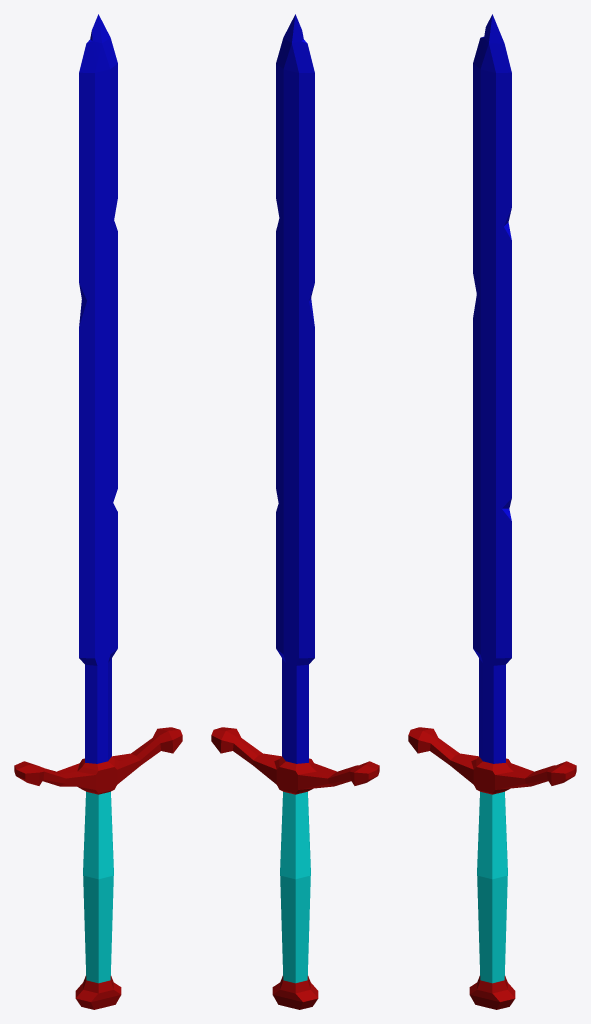
Rendered from Greatsword_Uncommon_Claymore.fbx.
The picture shows the model from 3 angles, left to right: view 1: azimuth 30°, elevation 25°; view 2: azimuth 150°, elevation 25°; view 3: azimuth 330°, elevation 25°; orthographic projection.
Parts seen in each view (by area): view 1: SM_Wep_Greatsword_Straight_01; view 2: SM_Wep_Greatsword_Straight_01; view 3: SM_Wep_Greatsword_Straight_01.
Boxes of the visible parts, x1,y1,x2,y2 form: SM_Wep_Greatsword_Straight_01: (14,14,182,1009); SM_Wep_Greatsword_Straight_01: (211,14,379,1009); SM_Wep_Greatsword_Straight_01: (408,14,576,1009).
Bounding box in the file's own units: 30.73 × 176 × 5.19.
